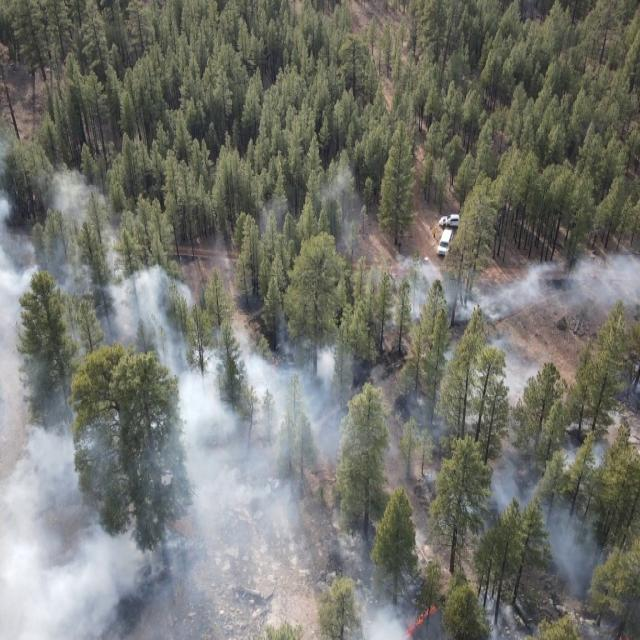fire: (396, 576, 462, 640), (612, 626, 634, 640)
smoke: (0, 170, 184, 640), (184, 247, 395, 640), (394, 257, 640, 572), (258, 168, 383, 251), (466, 585, 547, 640), (566, 572, 611, 640), (0, 122, 31, 172)
